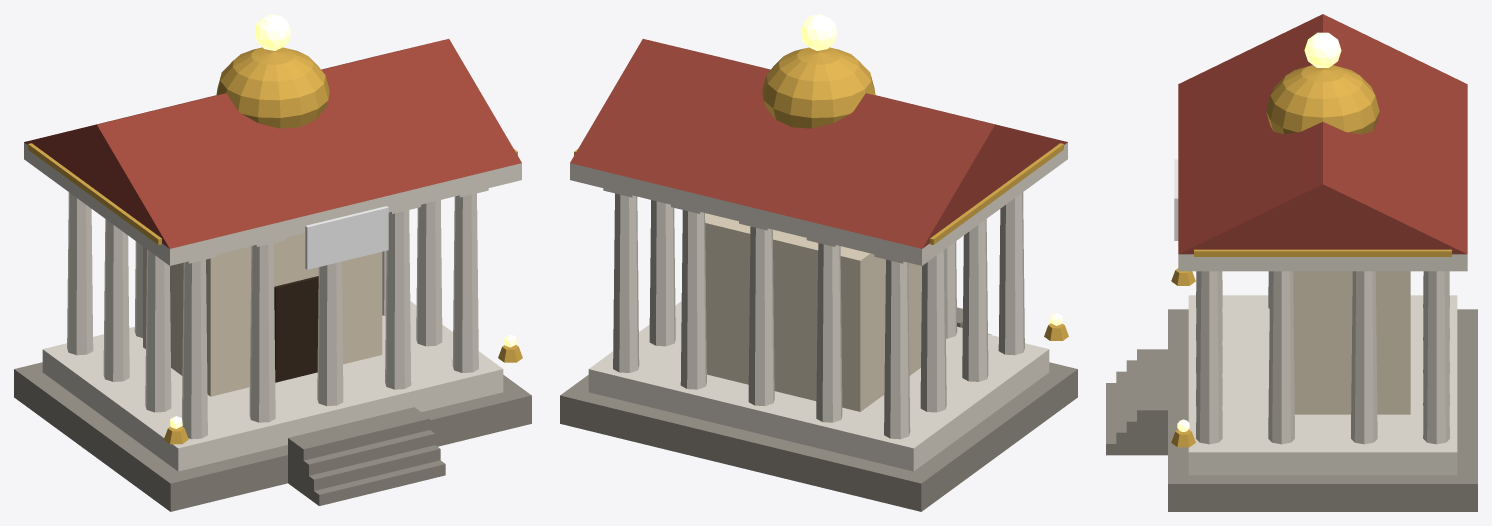
The model's file is temple.glb.
3 views of the same model, side by side, from view 1: azimuth 30°, elevation 25°; view 2: azimuth 150°, elevation 25°; view 3: azimuth 270°, elevation 25° (orthographic).
Parts seen in each view (by area): view 1: temple; view 2: temple; view 3: temple.
Boxes of the visible parts, x1,y1,x2,y2 form: temple: [14, 14, 531, 511]; temple: [560, 14, 1077, 511]; temple: [1106, 14, 1477, 511].
Bounding box in the file's own units: 4 × 4.18 × 3.6.
